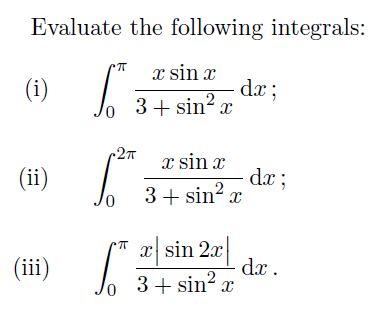Definite Integral: (84, 135, 282, 212), (85, 229, 273, 306), (82, 48, 269, 121)
